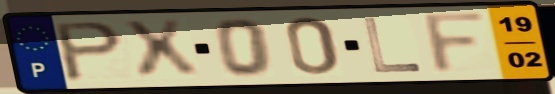0: (211, 16, 278, 80), (282, 15, 344, 79)
F: (420, 10, 491, 77)
L: (360, 16, 426, 75)
P: (52, 19, 127, 84)
X: (117, 17, 205, 83)
